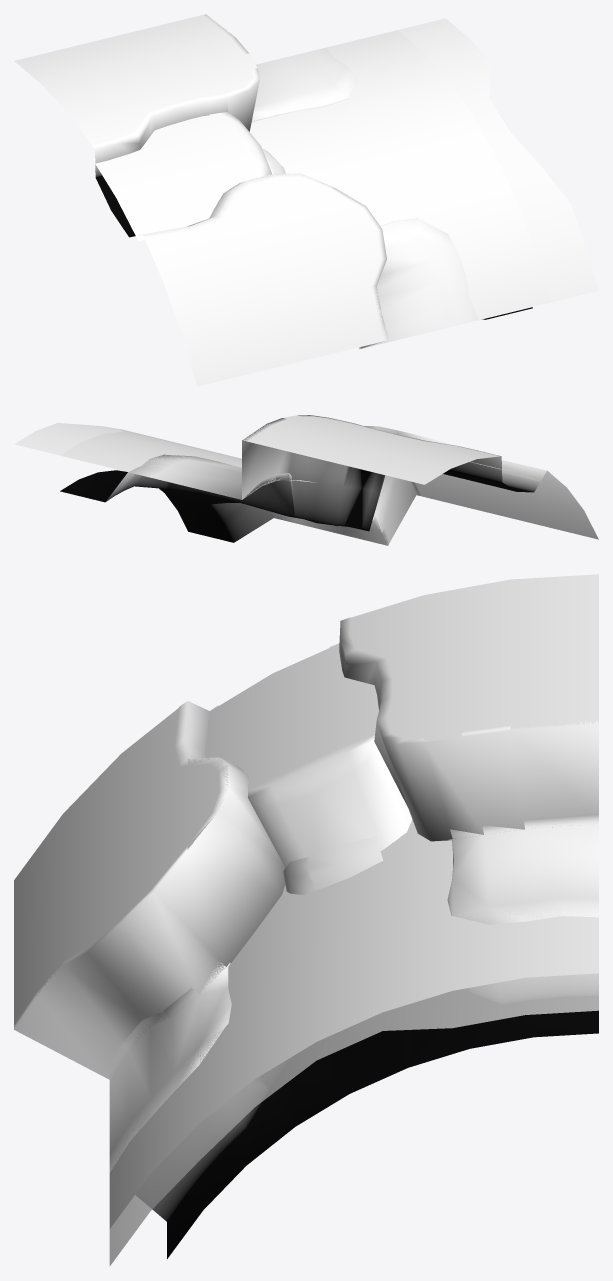
Rendered from grd_Me_R_1.dae.
3 views of the same model, one above another, from view 1: azimuth 30°, elevation 25°; view 2: azimuth 150°, elevation 25°; view 3: azimuth 270°, elevation 25° (orthographic). The views are drawn at different scales.
Parts seen in each view (by area): view 1: grass_5_0, ocean_6_0, wave_9_0, river1_7_0, beach_2_0, cliff_4_0, beach_3_0, river_edge_8_0, fall_0_0; view 2: grass_5_0, cliff_4_0, beach_3_0, ocean_6_0, beach_2_0, wave_9_0; view 3: grass_5_0, cliff_4_0, ocean_6_0, beach_3_0, wave_9_0, beach_2_0, fall_0_0, river1_7_0, river_edge_8_0, kemuri_mae_1_0.
Part boxes in pixels (x1,y1,x2,y2): grass_5_0: (14,14,388,386); ocean_6_0: (250,30,550,319); wave_9_0: (327,18,598,302); river1_7_0: (93,115,248,240); beach_2_0: (251,53,454,349); cliff_4_0: (92,14,388,348); beach_3_0: (302,47,532,325); river_edge_8_0: (92,99,417,241); fall_0_0: (209,112,271,179); grass_5_0: (243,415,598,539); cliff_4_0: (242,415,549,544); beach_3_0: (60,454,368,542); ocean_6_0: (60,431,317,515); beach_2_0: (151,456,389,545); wave_9_0: (14,423,241,490); grass_5_0: (14,574,598,1024); cliff_4_0: (14,617,598,1079); ocean_6_0: (109,820,598,1228); beach_3_0: (109,897,598,1258); wave_9_0: (109,904,598,1266); beach_2_0: (105,814,598,1153); fall_0_0: (247,727,412,867); river1_7_0: (206,644,378,781); river_edge_8_0: (205,643,452,1022); kemuri_mae_1_0: (283,836,383,895).
Size of the model in its own units: 576 by 308 by 423.
10 materials, 1 textured.
